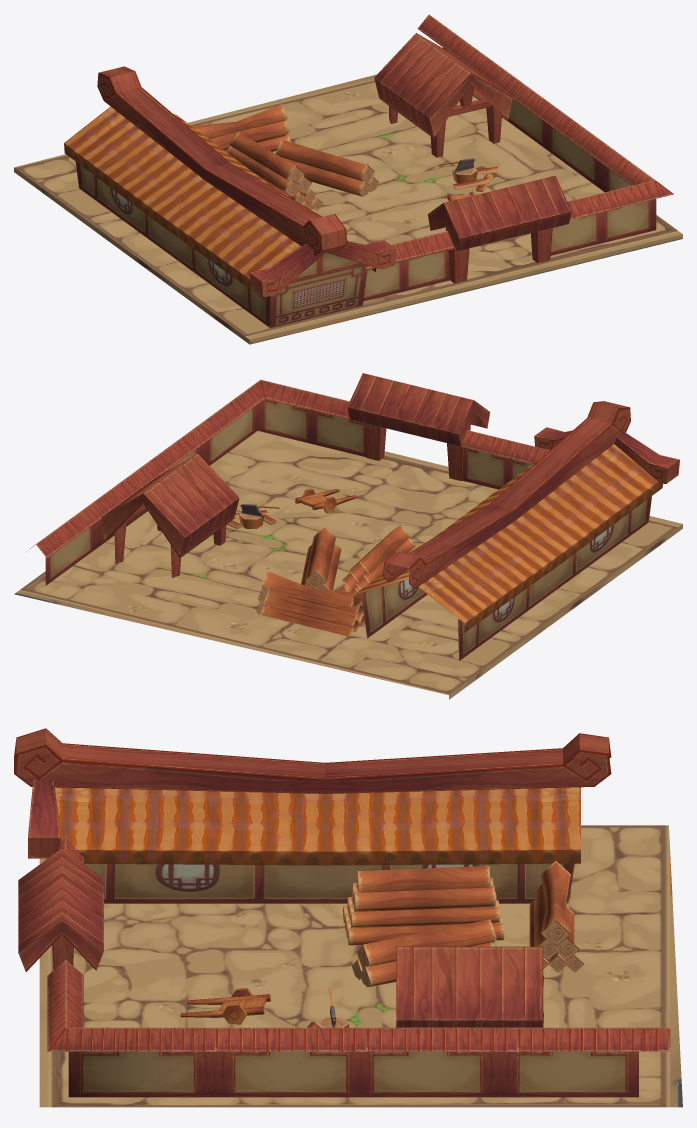
The model's file is Wood_low.FBX.
3 views of the same model, one above another, from view 1: azimuth 30°, elevation 25°; view 2: azimuth 150°, elevation 25°; view 3: azimuth 270°, elevation 25° (orthographic). The views are drawn at different scales.
Parts seen in each view (by area): view 1: wood_low; view 2: wood_low; view 3: wood_low.
Part boxes in pixels (x1,y1,x2,y2): wood_low: [14, 14, 682, 344]; wood_low: [14, 373, 682, 699]; wood_low: [14, 728, 682, 1107].
Size of the model in its own units: 101 by 101 by 23.93.
